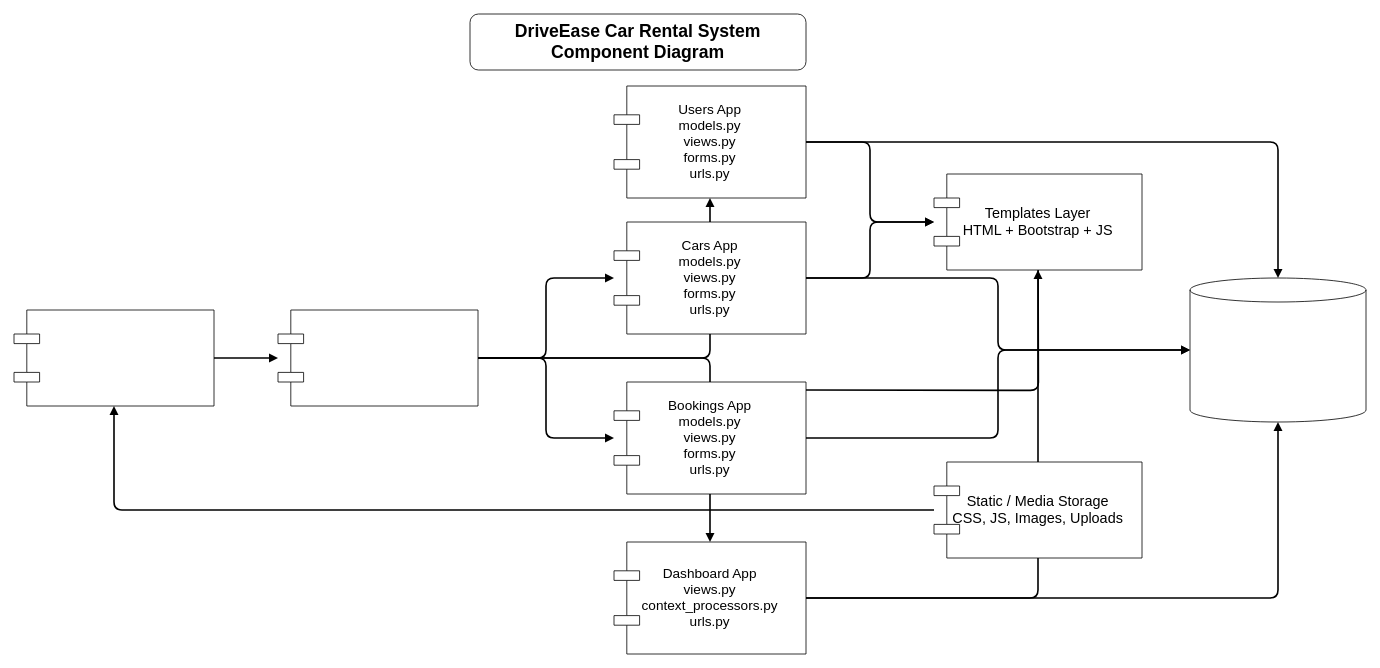
The diagram is 1380 pixels wide and 668 high, and some of its shapes have lost their labels. The centre of each missing label's shape, as x and y in pixels:
"Django URL Router driveease/urls.py" goes at (377,357).
"MySQL Database" goes at (1277,349).
"Web Browser (Customer / Admin UI)" goes at (113,357).
